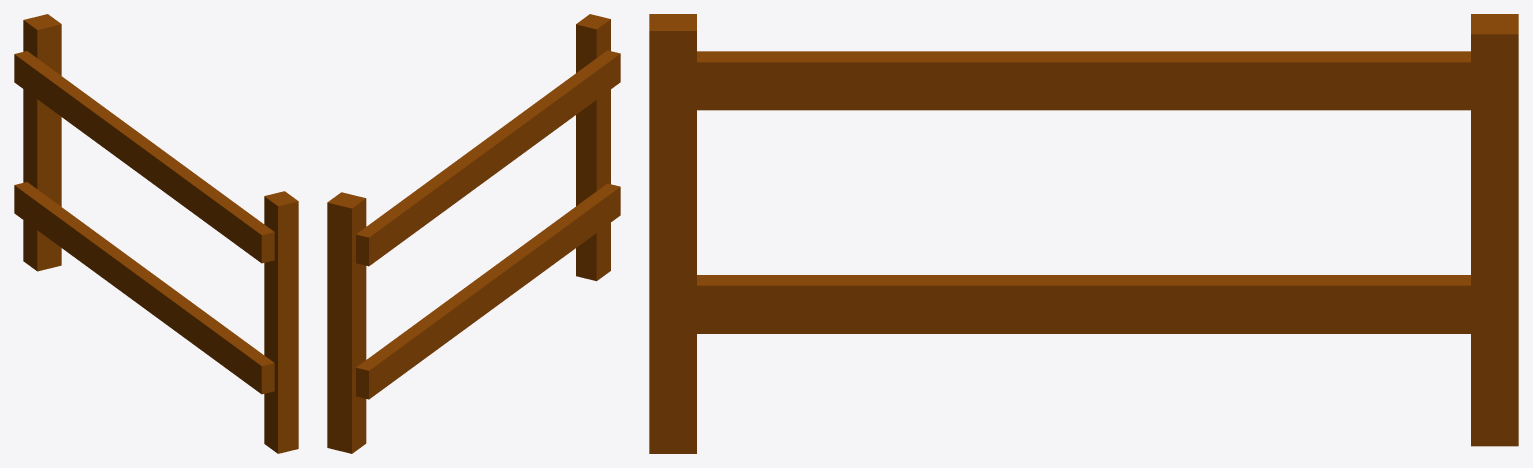
The model's file is Fence.fbx.
3 renders of one model, left to right at view 1: azimuth 30°, elevation 25°; view 2: azimuth 150°, elevation 25°; view 3: azimuth 270°, elevation 25°, orthographic. The views are drawn at different scales.
Parts seen in each view (by area): view 1: Fence 1; view 2: Fence 1; view 3: Fence 1.
Part boxes in pixels (x1=…): Fence 1: x1=14, y1=14, x2=298, y2=453; Fence 1: x1=327, y1=14, x2=620, y2=453; Fence 1: x1=649, y1=14, x2=1518, y2=453.
Bounding box in the file's own units: 32.07 × 203 × 379.
